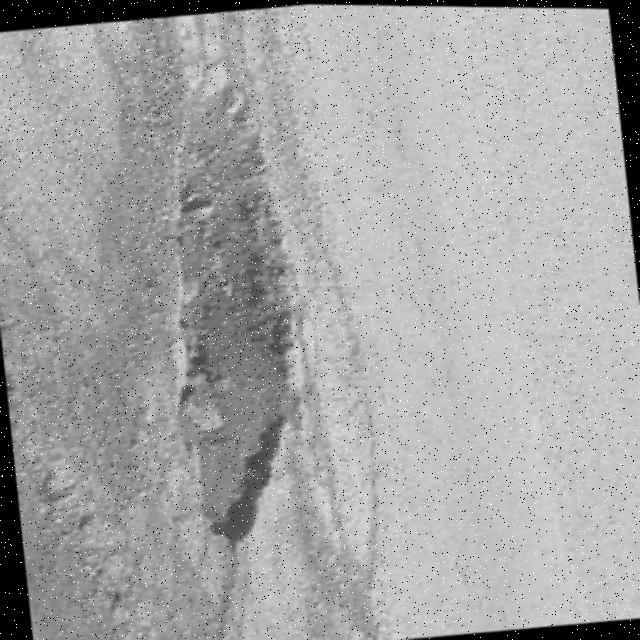pothole: (136, 81, 328, 560)
